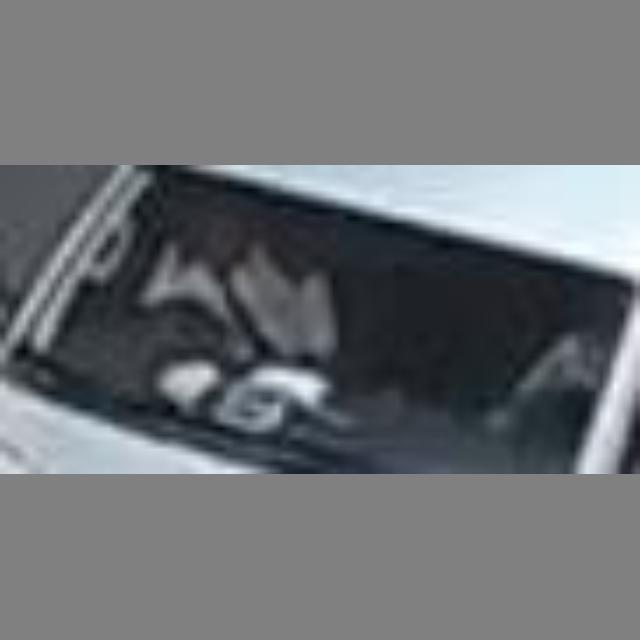pakai: (113, 228, 338, 383)
